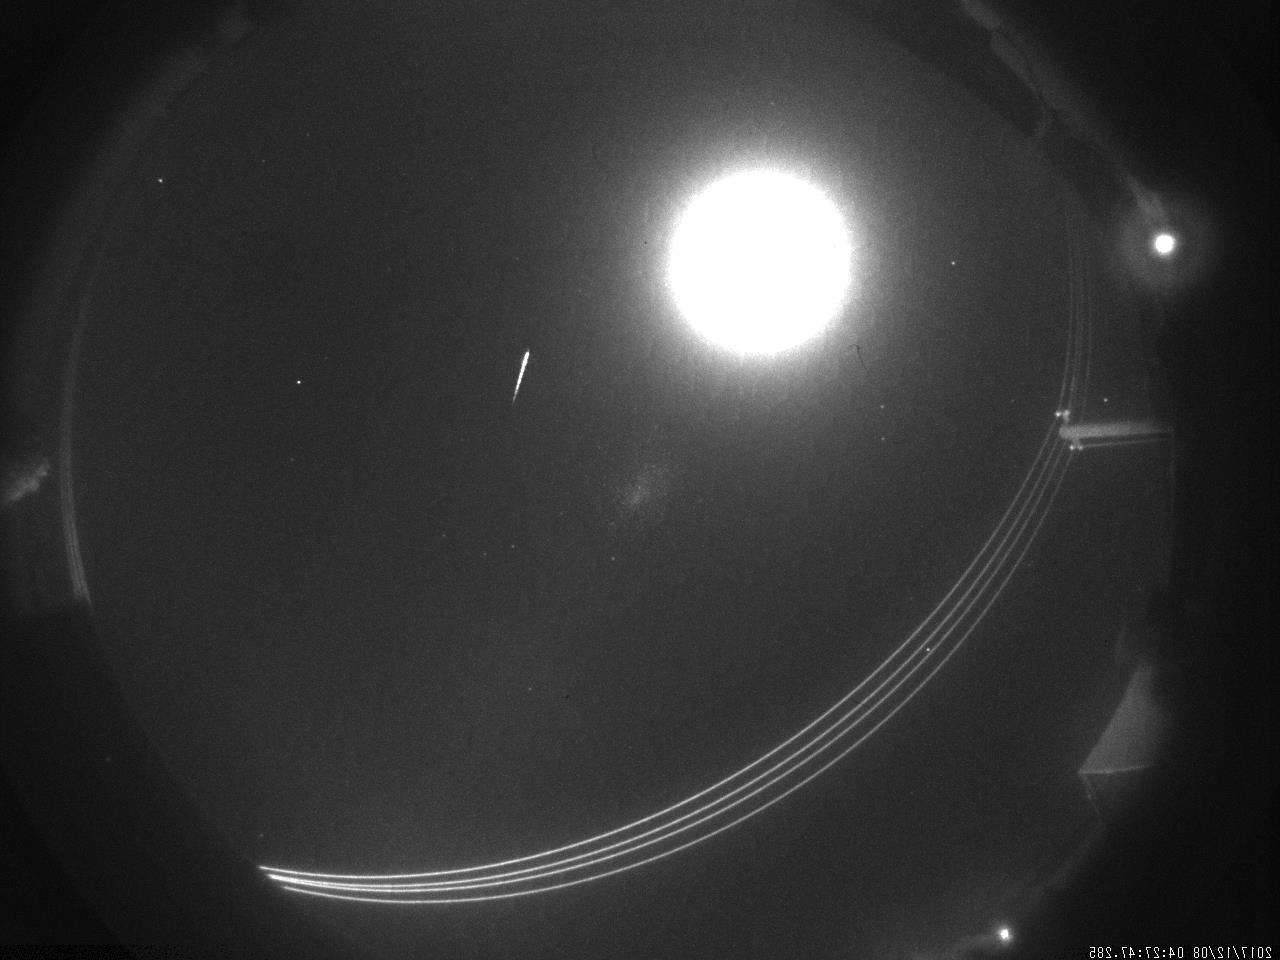meteor: (504, 343, 542, 407)
